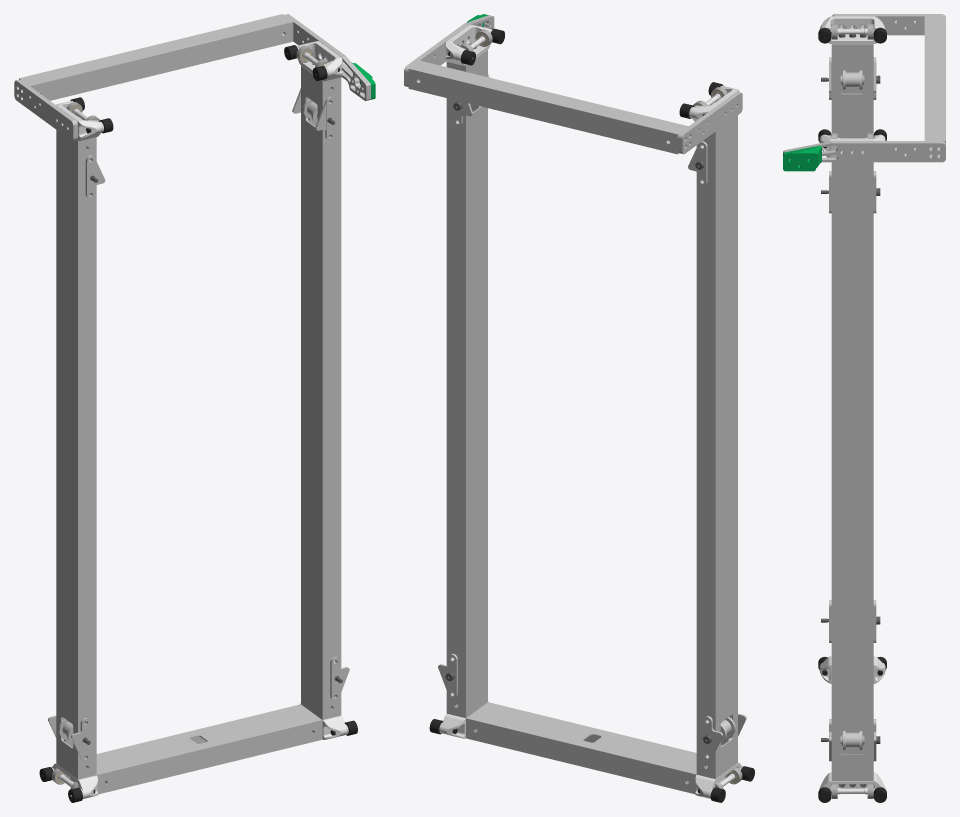
3 views of the same model, side by side, from view 1: azimuth 30°, elevation 25°; view 2: azimuth 150°, elevation 25°; view 3: azimuth 270°, elevation 25° (orthographic). The views are drawn at different scales.
Parts seen in each view (by area): view 1: 2nd Stage Side Tube (×2), 2nd Stage Bottom Tube, 1x1 Crossbeam, SDS Elevator Block (×4), Upper Crossbeam Mounting Plate No Cable, Upper Elevator Crossbeam Mounting Plate; view 2: 2nd Stage Side Tube (×2), 2nd Stage Bottom Tube, 1x1 Crossbeam, SDS Elevator Block (×4), Upper Crossbeam Mounting Plate No Cable, Upper Elevator Crossbeam Mounting Plate; view 3: 2nd Stage Side Tube (×2), SDS Elevator Block (×4), 1x1 Crossbeam, Upper Elevator Crossbeam Mounting Plate, Upper Crossbeam Mounting Plate No Cable, Upper Elevator Crossbeam Cable Chain Mount, .75 Idler (×2).
Boxes of the visible parts, x1=… form: 2nd Stage Side Tube (×2): x1=56, y1=65, x2=341, y2=779; 2nd Stage Bottom Tube: x1=96, y1=704, x2=322, y2=794; 1x1 Crossbeam: x1=19, y1=14, x2=293, y2=100; SDS Elevator Block (×4): x1=39, y1=41, x2=357, y2=802; Upper Crossbeam Mounting Plate No Cable: x1=14, y1=79, x2=77, y2=140; Upper Elevator Crossbeam Mounting Plate: x1=283, y1=14, x2=370, y2=100; 2nd Stage Side Tube (×2): x1=446, y1=49, x2=737, y2=779; 2nd Stage Bottom Tube: x1=466, y1=702, x2=696, y2=794; 1x1 Crossbeam: x1=408, y1=60, x2=688, y2=154; SDS Elevator Block (×4): x1=429, y1=24, x2=754, y2=802; Upper Crossbeam Mounting Plate No Cable: x1=677, y1=91, x2=742, y2=154; Upper Elevator Crossbeam Mounting Plate: x1=404, y1=15, x2=494, y2=87; 2nd Stage Side Tube (×2): x1=831, y1=44, x2=873, y2=780; SDS Elevator Block (×4): x1=818, y1=16, x2=886, y2=802; 1x1 Crossbeam: x1=924, y1=16, x2=945, y2=155; Upper Elevator Crossbeam Mounting Plate: x1=783, y1=141, x2=945, y2=165; Upper Crossbeam Mounting Plate No Cable: x1=832, y1=14, x2=945, y2=35; Upper Elevator Crossbeam Cable Chain Mount: x1=783, y1=145, x2=821, y2=171; .75 Idler (×2): x1=843, y1=70, x2=862, y2=750.
Bounding box in the file's own units: 0.3843 × 0.8763 × 0.1962.
